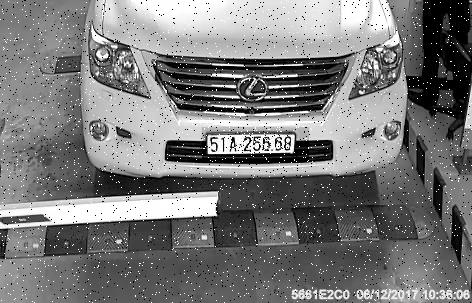License-plate: (203, 128, 310, 164)
